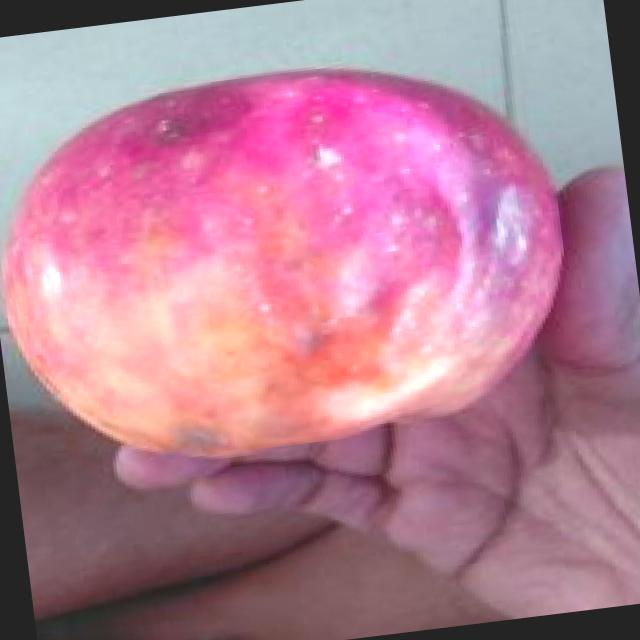Rotten_Apple: (0, 40, 575, 491)
